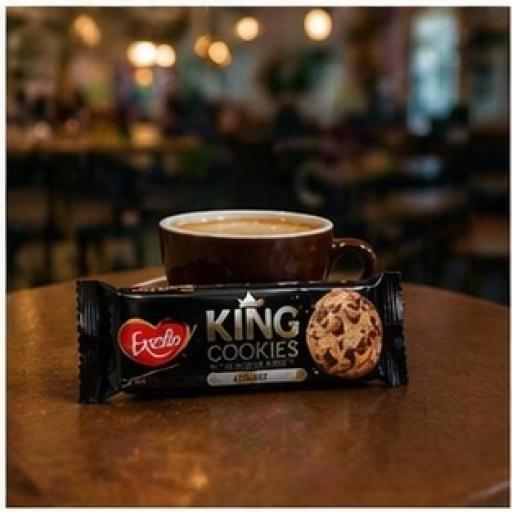king-cooking: (54, 224, 439, 436)
